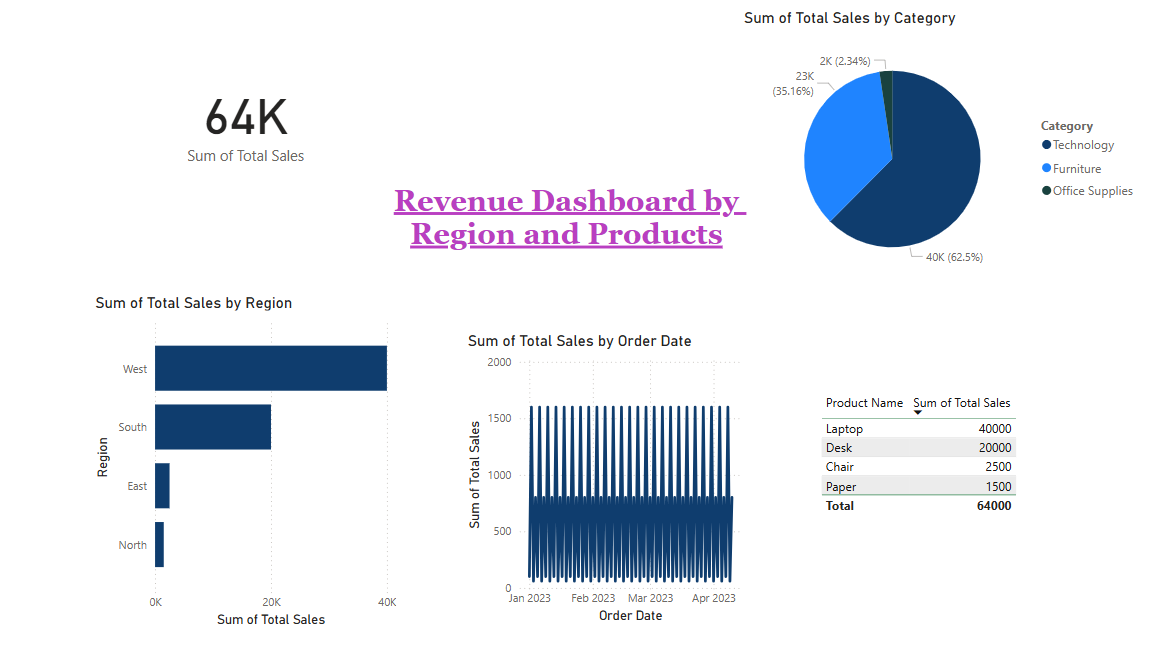

The page's visual inventory and layout, read from the dashboard file:
{"tool":"powerbi","page":{"name":"Page 1","canvas":[1280,720],"ordinal":0},"visuals":[{"type":"card","fields":{"Values":["Sum(Sheet1.Total Sales)"]},"box":[138.6,0,279.9,279.9],"z":0},{"type":"barChart","fields":{"Category":["Sheet1.Region"],"Y":["Sum(Sheet1.Total Sales)"]},"box":[108.4,329.3,340.3,371.9],"z":1},{"type":"pieChart","fields":{"Category":["Sheet1.Category"],"Y":["Sum(Sheet1.Total Sales)"]},"box":[820.6,16.5,446,312.9],"z":2},{"type":"lineChart","fields":{"Category":["Sheet1.Order Date"],"Y":["Sum(Sheet1.Total Sales)"]},"box":[517.3,371.9,325.2,325.2],"z":3},{"type":"tableEx","fields":{"Values":["Sheet1.Product Name","Sum(Sheet1.Total Sales)"]},"box":[904.3,433.6,241.5,164.7],"z":4},{"type":"textbox","box":[418.5,204.5,424,86.4],"z":5}]}

Visuals, with their boxes in screenshot pixels (x1, y1, x2, y2), scaled from the page's 1280x720 canvas onto the 1153x646 screenshot:
card - Sum(Sheet1.Total Sales): 125/0/377/251
barChart - Sheet1.Region x Sum(Sheet1.Total Sales): 98/295/404/629
pieChart - Sheet1.Category x Sum(Sheet1.Total Sales): 739/15/1141/296
lineChart - Sheet1.Order Date x Sum(Sheet1.Total Sales): 466/334/759/625
tableEx - Sheet1.Product Name x Sum(Sheet1.Total Sales): 815/389/1032/537
textbox: 377/183/759/261
